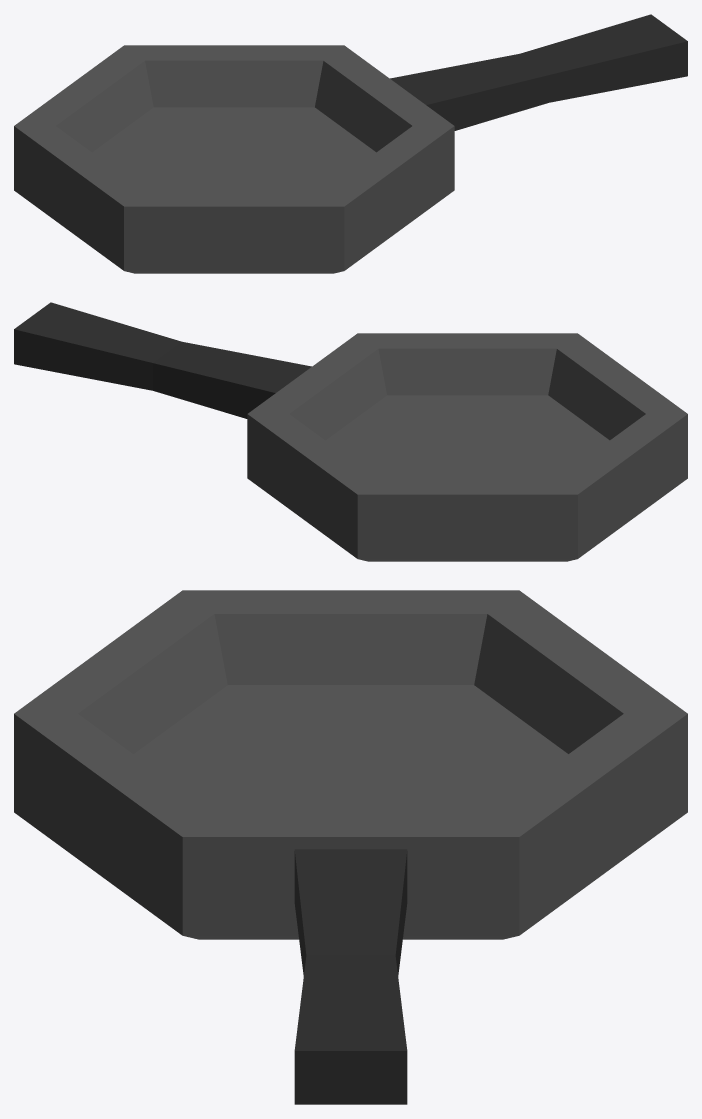
The model's file is Pan.fbx.
The picture shows the model from 3 angles, top to bottom: view 1: azimuth 30°, elevation 25°; view 2: azimuth 150°, elevation 25°; view 3: azimuth 270°, elevation 25°; orthographic projection. The views are drawn at different scales.
Parts seen in each view (by area): view 1: Pan; view 2: Pan; view 3: Pan.
Part boxes in pixels (<box>): Pan: <box>14,14,687,273</box>; Pan: <box>14,302,687,561</box>; Pan: <box>14,590,687,1104</box>.
Size of the model in its own units: 0.8782 by 0.1048 by 0.558.
